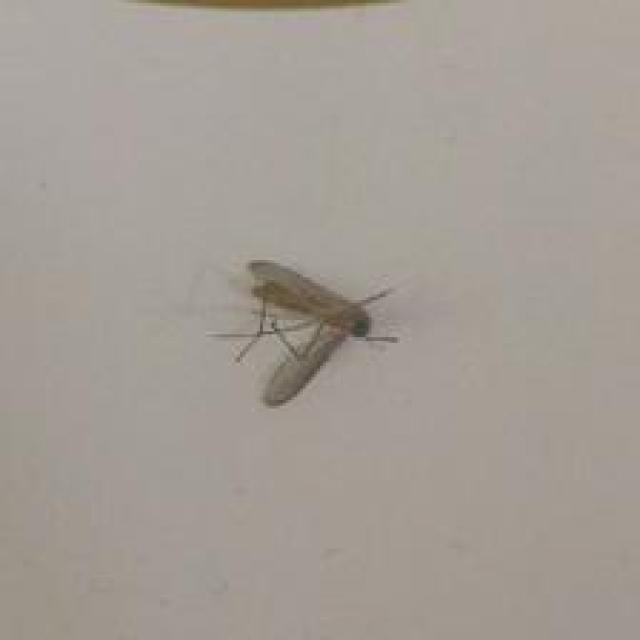Culex: (205, 257, 402, 409)
